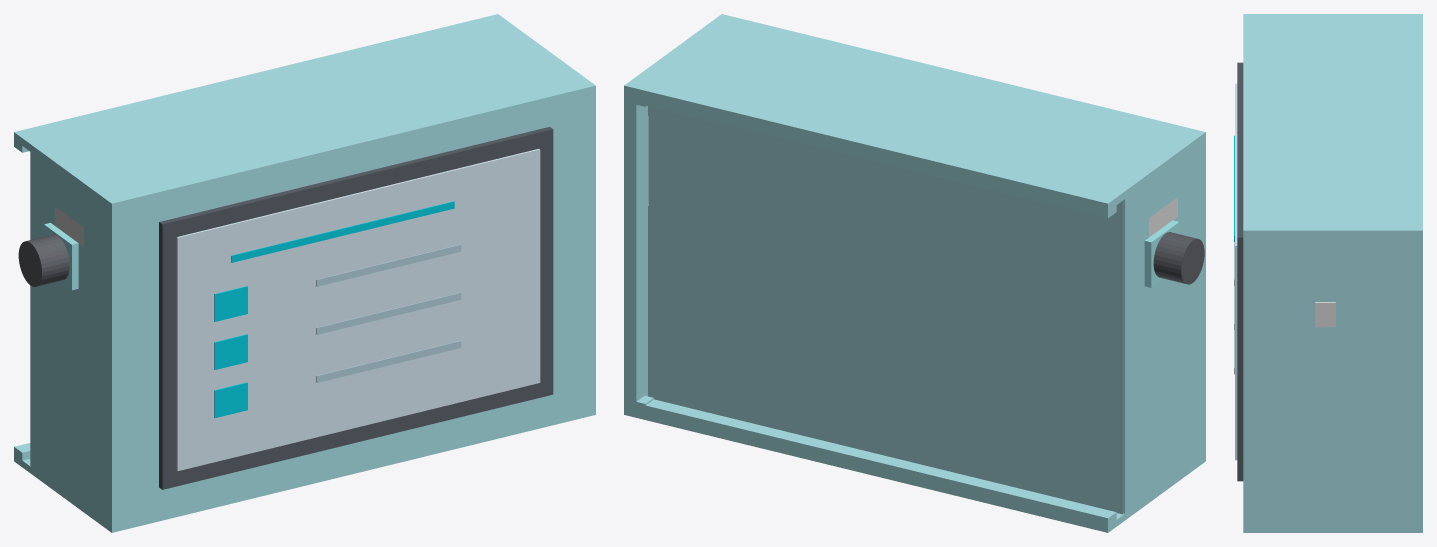
The model's file is sipdus3d.glb.
The picture shows the model from 3 angles, left to right: view 1: azimuth 30°, elevation 25°; view 2: azimuth 150°, elevation 25°; view 3: azimuth 270°, elevation 25°; orthographic projection. The views are drawn at different scales.
Visible parts, largest first — view 1: Carcaca_azul, Tela_frontal, Moldura_preta_tela, Botao_lateral, Interface_cabecalho, Linha_interface_1, Linha_interface_3, Linha_interface_2, Icone_interface_1, Icone_interface_3, Icone_interface_2, Painel_azul_ajuste_abertura; view 2: Tampa_traseira_encaixada, Carcaca_azul, Botao_lateral, Painel_azul_ajuste_abertura; view 3: Carcaca_azul, Moldura_preta_tela, Tela_frontal, Cubo.001.
Boxes of the visible parts, x1,y1,x2,y2 form: Carcaca_azul: (14,14,595,532); Tela_frontal: (176,149,540,470); Moldura_preta_tela: (159,127,553,489); Botao_lateral: (18,234,69,286); Interface_cabecalho: (231,201,454,262); Linha_interface_1: (316,244,461,286); Linha_interface_3: (316,340,461,382); Linha_interface_2: (316,292,461,334); Icone_interface_1: (214,286,247,321); Icone_interface_3: (214,382,247,417); Icone_interface_2: (214,334,247,369); Painel_azul_ajuste_abertura: (44,223,78,290); Tampa_traseira_encaixada: (648,106,1123,514); Carcaca_azul: (624,14,1205,532); Botao_lateral: (1153,232,1204,284); Painel_azul_ajuste_abertura: (1144,220,1179,287); Carcaca_azul: (1243,14,1422,532); Moldura_preta_tela: (1237,62,1243,481); Tela_frontal: (1235,83,1237,460); Cubo.001: (1315,302,1335,327).
Size of the model in its own units: 108 by 65 by 36.8.
